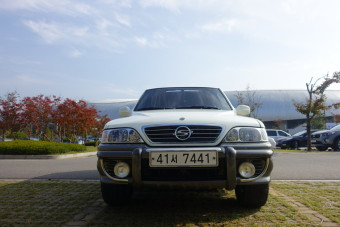car: (147, 150, 219, 168)
